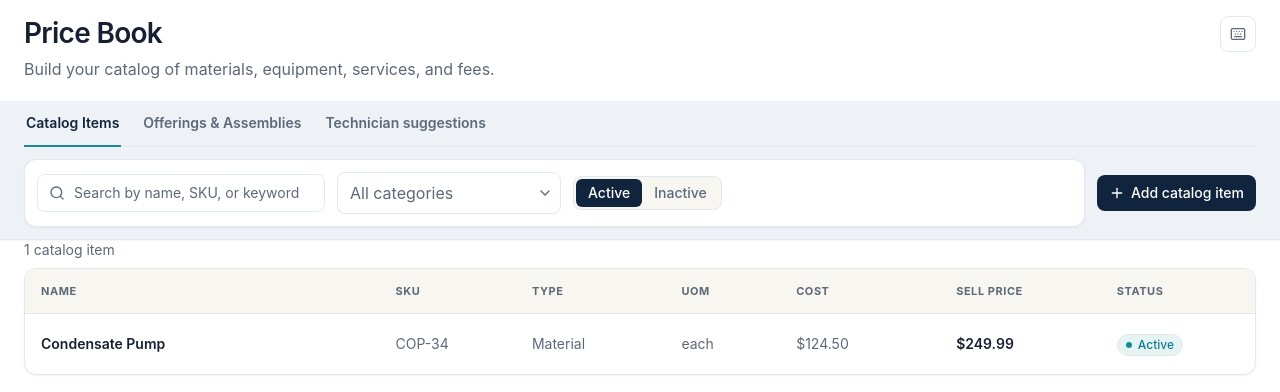
Test: PriceBook › shows only one clear affordance for an active search — the custom accessible button, not a native search-input cancel icon
The width and height of the screenshot is (1280, 392).
Expected: the button "Condensate Pump" is shown, top-left (41, 334), bottom-right (165, 354)
Type "pump" into the field named "Search catalog" at (181, 193), box top-left (37, 174), bottom-right (325, 212)
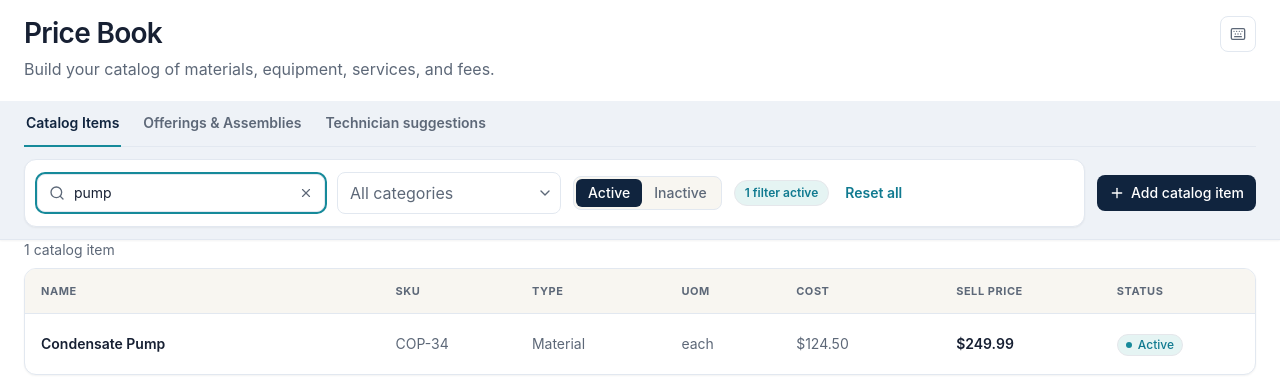
Expected: the number of buttons named "Clear catalog search" is 1, top-left (295, 182), bottom-right (317, 204)
